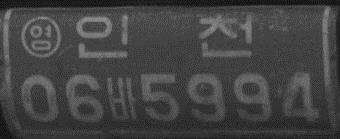0: (20, 73, 60, 124)
4: (282, 71, 322, 124)
5: (138, 71, 180, 124)
6: (64, 72, 106, 125)
9: (186, 71, 227, 124), (232, 71, 273, 124)
바: (104, 74, 139, 123)
영: (20, 14, 63, 58)
인천_D: (74, 12, 256, 62)
